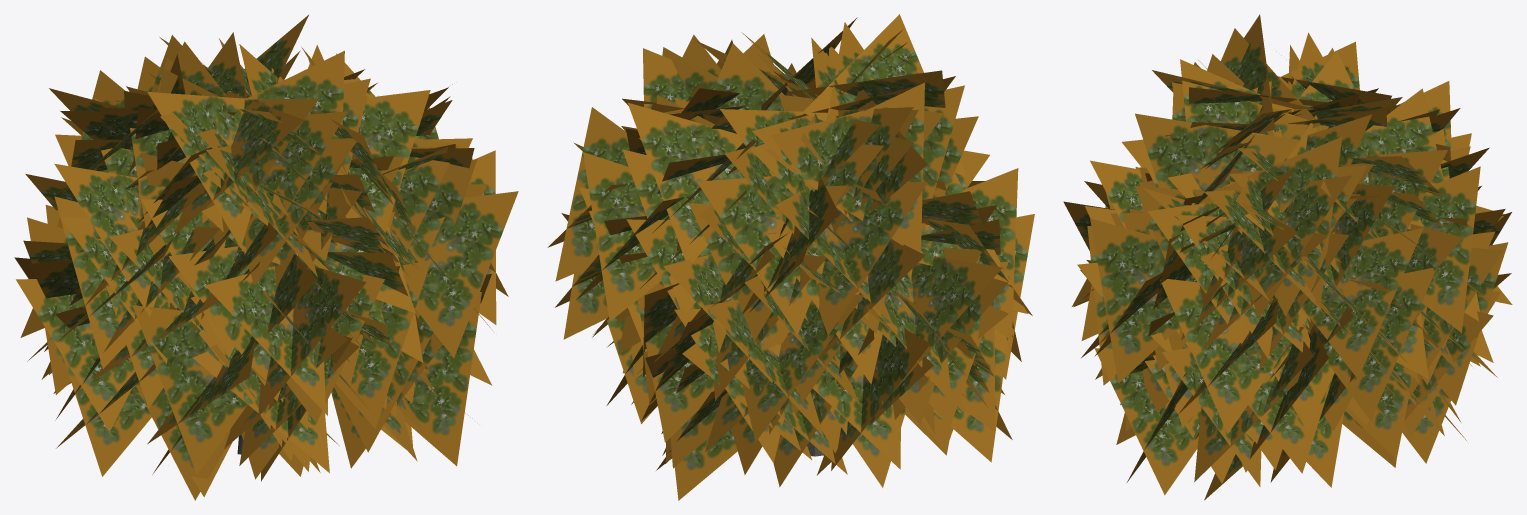
Rendered from Citrus_Sinensis_Autumn_Young.glb.
The picture shows the model from 3 angles, left to right: view 1: azimuth 30°, elevation 25°; view 2: azimuth 150°, elevation 25°; view 3: azimuth 270°, elevation 25°; orthographic projection. The views are drawn at different scales.
Parts seen in each view (by area): view 1: Citrus_Sinensis_Autumn_Young__LOD3; view 2: Citrus_Sinensis_Autumn_Young__LOD3; view 3: Citrus_Sinensis_Autumn_Young__LOD3.
Part boxes in pixels (x1,y1,x2,y2): Citrus_Sinensis_Autumn_Young__LOD3: [14, 15, 518, 500]; Citrus_Sinensis_Autumn_Young__LOD3: [547, 14, 1034, 500]; Citrus_Sinensis_Autumn_Young__LOD3: [1063, 14, 1512, 500].
Size of the model in its own units: 4.44 by 3.78 by 4.08.
2 materials, 2 textured.
